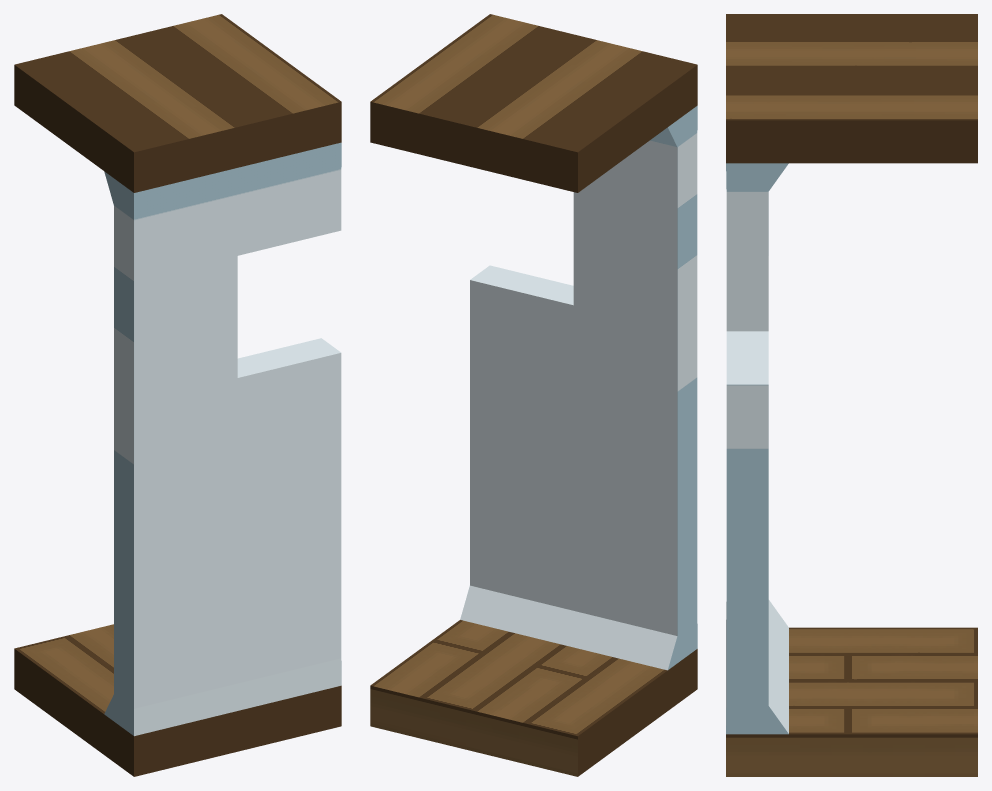
Rendered from HomeWallWindowSideRight.obj.
3 views of the same model, side by side, from view 1: azimuth 30°, elevation 25°; view 2: azimuth 150°, elevation 25°; view 3: azimuth 270°, elevation 25° (orthographic). The views are drawn at different scales.
Parts seen in each view (by area): view 1: Wall, Mid; view 2: Wall, Mid; view 3: Mid, Wall.
Boxes of the visible parts, left/top/right/bottom form: Wall: left=104, top=142, right=341, bottom=736; Mid: left=14, top=14, right=341, bottom=776; Wall: left=460, top=105, right=697, bottom=670; Mid: left=370, top=14, right=697, bottom=776; Mid: left=726, top=14, right=977, bottom=776; Wall: left=726, top=163, right=788, bottom=734.
Size of the model in its own units: 1 by 2.88 by 1.
Materials: 2 (2 with a texture image).
